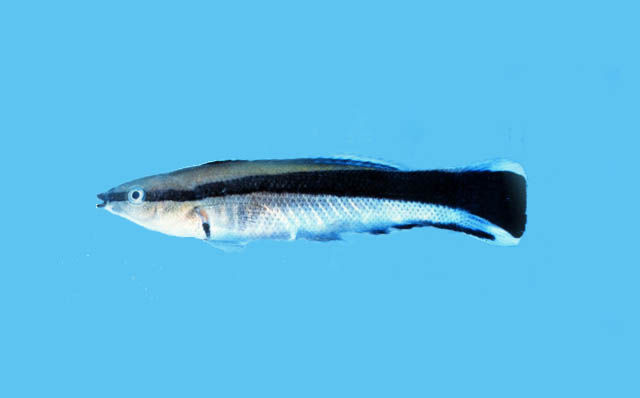fish: (95, 157, 527, 255)
